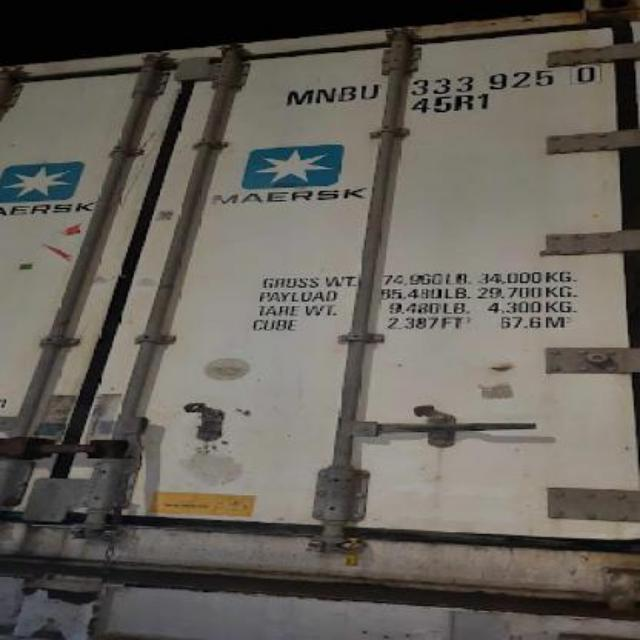0: (572, 66, 598, 84)
2: (514, 72, 532, 88)
3: (452, 76, 478, 94), (410, 79, 430, 95), (432, 78, 452, 94)
5: (536, 70, 558, 86)
9: (486, 72, 510, 90)
B: (337, 86, 358, 102)
M: (284, 89, 314, 105)
N: (314, 88, 338, 102)
U: (358, 84, 382, 100)
